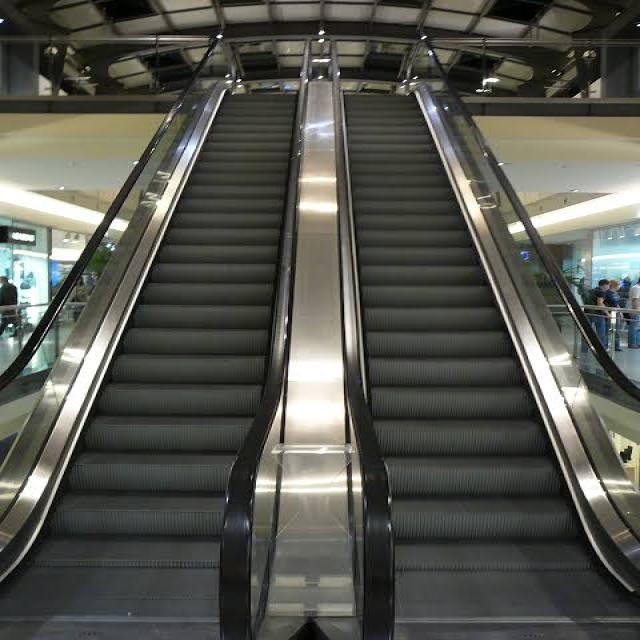escalator: (320, 13, 639, 639), (0, 23, 321, 639)
